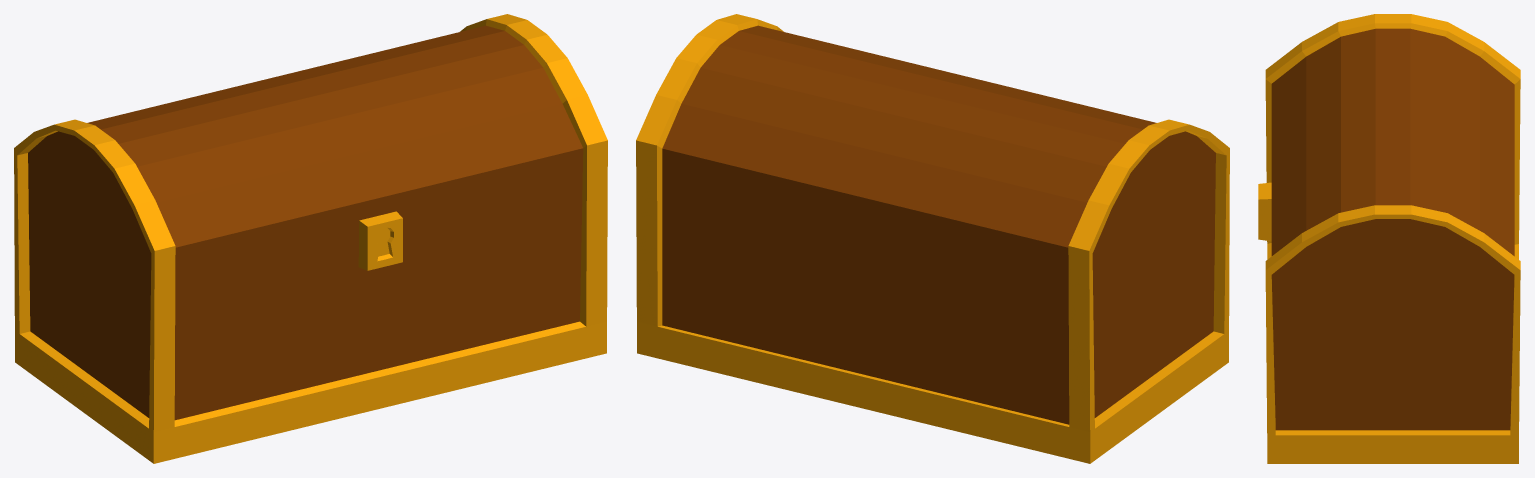
File: Bau.fbx
3 renders of one model, left to right at view 1: azimuth 30°, elevation 25°; view 2: azimuth 150°, elevation 25°; view 3: azimuth 270°, elevation 25°, orthographic. The views are drawn at different scales.
Parts seen in each view (by area): view 1: Bau; view 2: Bau; view 3: Bau.
Part boxes in pixels (x1=…): Bau: x1=14, y1=14, x2=607, y2=463; Bau: x1=636, y1=14, x2=1229, y2=463; Bau: x1=1258, y1=14, x2=1520, y2=463.
Bounding box in the file's own units: 127 × 73.77 × 70.26.
